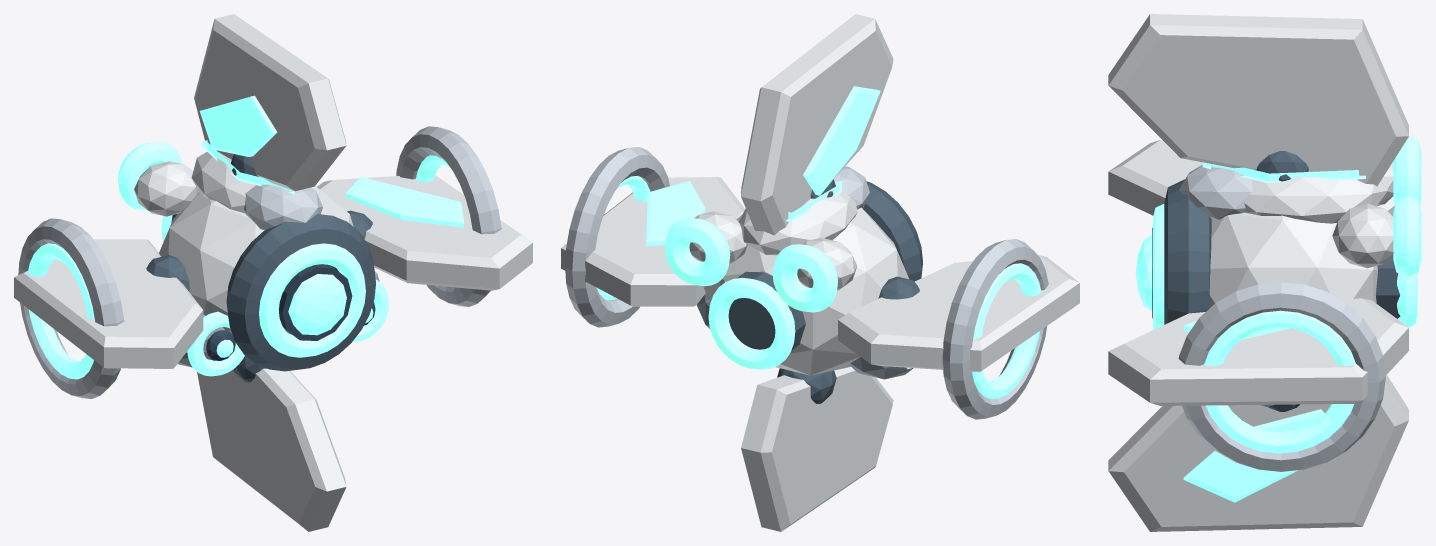
Rendered from drone_a.glb.
3 views of the same model, side by side, from view 1: azimuth 30°, elevation 25°; view 2: azimuth 150°, elevation 25°; view 3: azimuth 270°, elevation 25° (orthographic). The views are drawn at different scales.
Visible parts, largest first — view 1: group_ivory, group_green, group_silver, group_graphite, group_black; view 2: group_ivory, group_green, group_silver, group_graphite, group_steel; view 3: group_ivory, group_green, group_silver, group_graphite.
Boxes of the visible parts, x1,y1,x2,y2 form: group_ivory: [14, 14, 532, 531]; group_green: [28, 95, 464, 379]; group_silver: [18, 126, 501, 398]; group_graphite: [146, 154, 375, 382]; group_black: [206, 264, 375, 360]; group_ivory: [561, 14, 1079, 531]; group_green: [596, 86, 1041, 398]; group_silver: [565, 147, 1048, 419]; group_graphite: [728, 179, 922, 403]; group_steel: [697, 293, 913, 379]; group_ivory: [1108, 14, 1408, 531]; group_green: [1135, 136, 1421, 502]; group_silver: [1178, 165, 1385, 471]; group_graphite: [1164, 151, 1400, 411].
Size of the model in its own units: 3.5 by 3.5 by 1.96.
